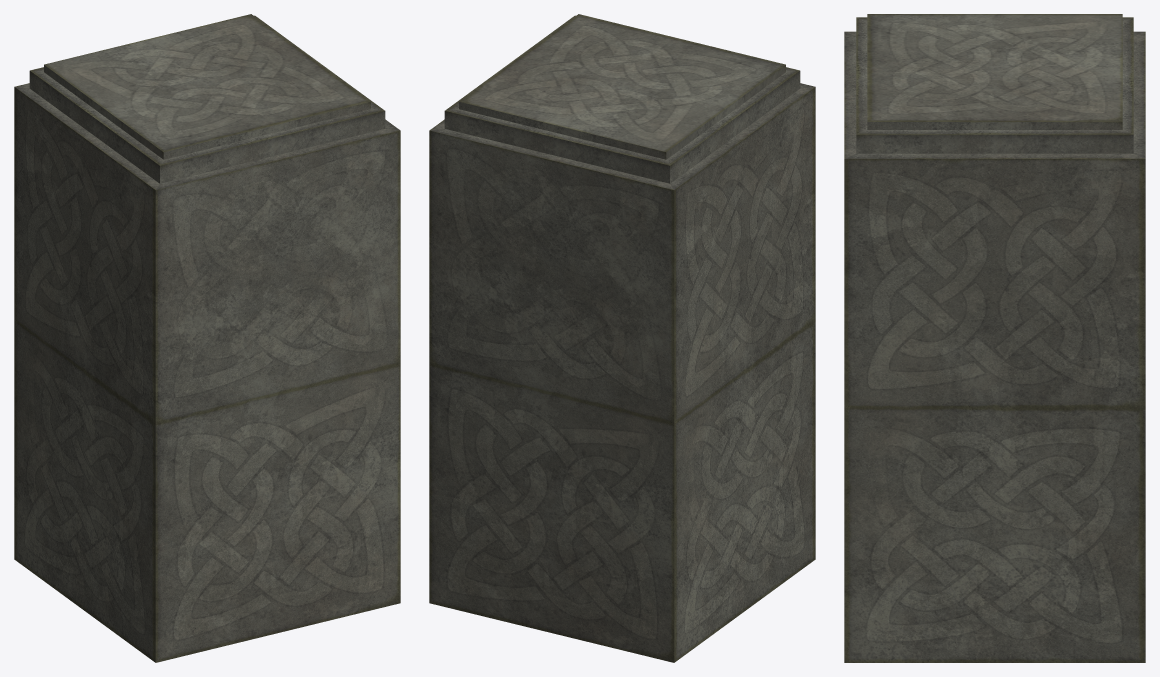
Rendered from bridge_pillar_base.fbx.
3 views of the same model, side by side, from view 1: azimuth 30°, elevation 25°; view 2: azimuth 150°, elevation 25°; view 3: azimuth 270°, elevation 25° (orthographic). The views are drawn at different scales.
Parts seen in each view (by area): view 1: bridge_pillar_base; view 2: bridge_pillar_base; view 3: bridge_pillar_base.
Boxes of the visible parts, x1=… form: bridge_pillar_base: x1=14, y1=14, x2=400, y2=662; bridge_pillar_base: x1=429, y1=14, x2=815, y2=662; bridge_pillar_base: x1=844, y1=14, x2=1145, y2=662.
Bounding box in the file's own units: 463 × 900 × 463.
